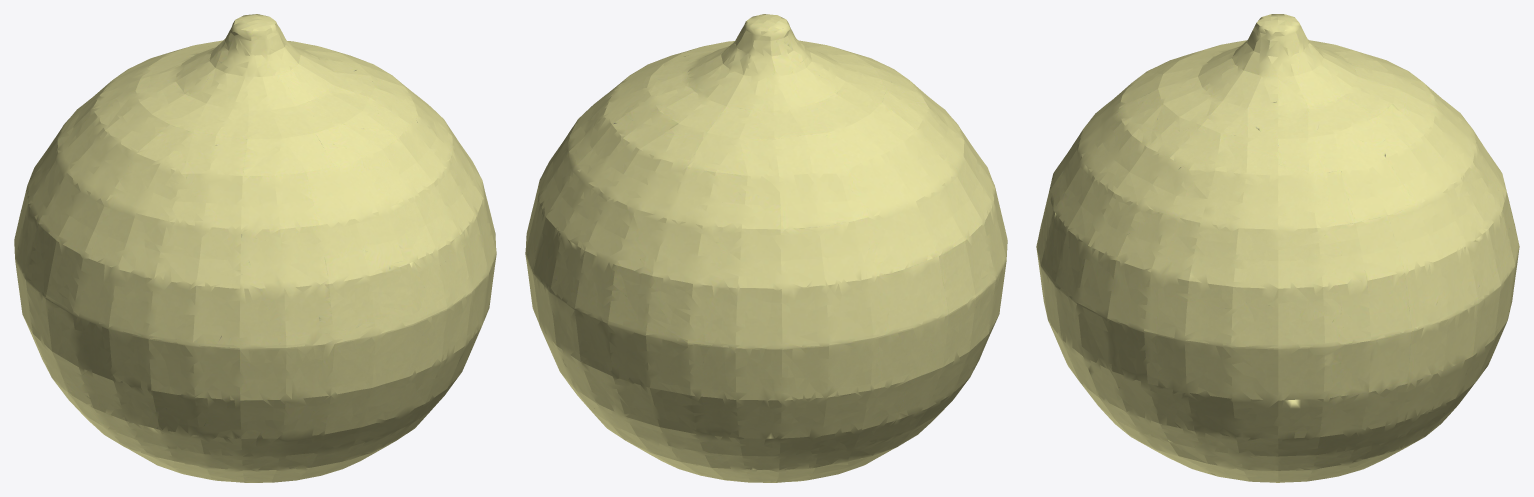
The model's file is new_onion_1.fbx.
3 views of the same model, side by side, from view 1: azimuth 30°, elevation 25°; view 2: azimuth 150°, elevation 25°; view 3: azimuth 270°, elevation 25° (orthographic).
Visible parts, largest first — view 1: tripo_node_e3ba5546; view 2: tripo_node_e3ba5546; view 3: tripo_node_e3ba5546.
Part boxes in pixels (x1,y1,x2,y2): tripo_node_e3ba5546: [14, 14, 496, 482]; tripo_node_e3ba5546: [525, 14, 1007, 482]; tripo_node_e3ba5546: [1036, 14, 1519, 482].
Bounding box in the file's own units: 97.65 × 97.96 × 97.6.
Materials: 1 (1 with a texture image).
